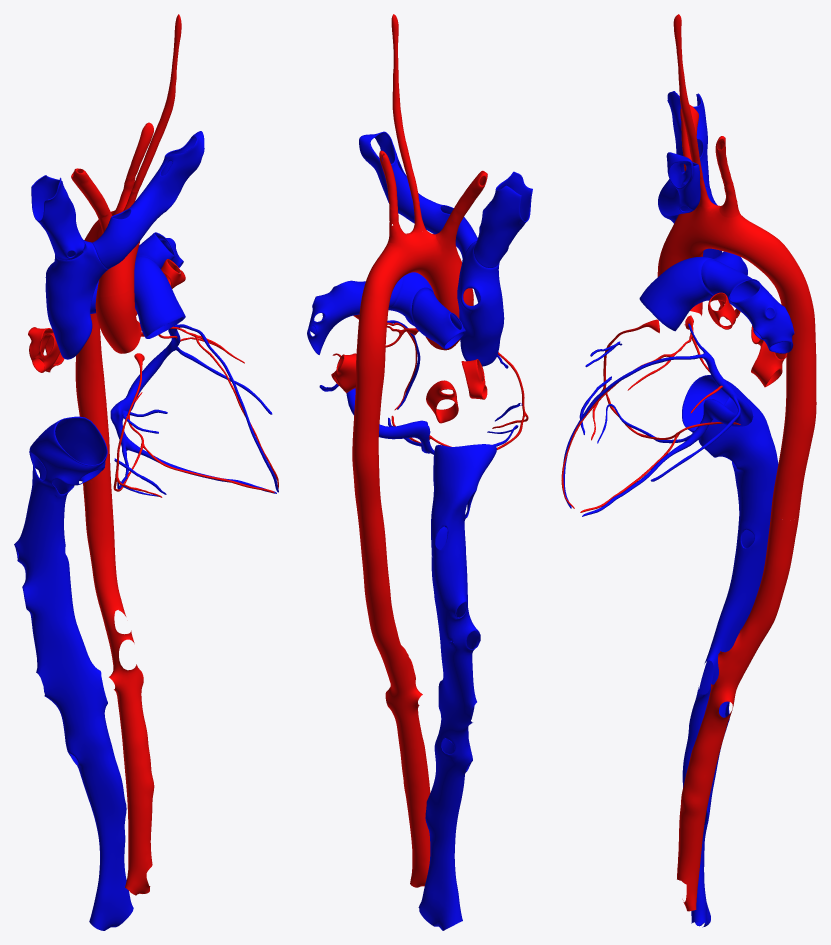
File: heart-vessels.glb
The picture shows the model from 3 angles, left to right: view 1: azimuth 30°, elevation 25°; view 2: azimuth 150°, elevation 25°; view 3: azimuth 270°, elevation 25°; orthographic projection. The views are drawn at different scales.
Parts seen in each view (by area): view 1: VH_M_inferior_vena_cava_b, VH_M_descending_aorta_b, VH_M_inferior_vena_cava_a, VH_M_brachiocephalic_vein_L, VH_M_superior_vena_cava, VH_M_descending_aorta_a, VH_M_brachiocephalic_vein_R, VH_M_pulmonary_trunk, VH_M_ascending_aorta, VH_M_coronary_sinus, VH_M_aortic_arch, VH_M_left_common_carotid_artery_b (+7 smaller); view 2: VH_M_inferior_vena_cava_b, VH_M_descending_aorta_b, VH_M_descending_aorta_a, VH_M_inferior_vena_cava_a, VH_M_aortic_arch, VH_M_superior_vena_cava, VH_M_brachiocephalic_vein_R, VH_M_brachiocephalic_vein_L, VH_M_pulmonary_artery_L, VH_M_pulmonary_artery_R, VH_M_left_common_carotid_artery_b, VH_M_coronary_sinus (+7 smaller); view 3: VH_M_descending_aorta_b, VH_M_descending_aorta_a, VH_M_inferior_vena_cava_b, VH_M_inferior_vena_cava_a, VH_M_aortic_arch, VH_M_pulmonary_artery_L, VH_M_pulmonary_trunk, VH_M_brachiocephalic_vein_L, VH_M_coronary_sinus, VH_M_brachiocephalic_vein_R, VH_M_left_common_carotid_artery_b, VH_M_pulmonary_vein_L_inf (+4 smaller).
Part boxes in pixels (left/top/right/bottom): VH_M_inferior_vena_cava_b: left=14, top=501, right=133, bottom=930; VH_M_descending_aorta_b: left=83, top=480, right=154, bottom=895; VH_M_inferior_vena_cava_a: left=29, top=416, right=107, bottom=516; VH_M_brachiocephalic_vein_L: left=92, top=131, right=204, bottom=269; VH_M_superior_vena_cava: left=45, top=240, right=107, bottom=359; VH_M_descending_aorta_a: left=75, top=232, right=110, bottom=484; VH_M_brachiocephalic_vein_R: left=31, top=175, right=84, bottom=260; VH_M_pulmonary_trunk: left=134, top=256, right=185, bottom=338; VH_M_ascending_aorta: left=95, top=286, right=141, bottom=353; VH_M_coronary_sinus: left=110, top=324, right=180, bottom=450; VH_M_aortic_arch: left=88, top=206, right=139, bottom=297; VH_M_left_common_carotid_artery_b: left=132, top=14, right=181, bottom=192; VH_M_inferior_vena_cava_b: left=418, top=551, right=480, bottom=930; VH_M_descending_aorta_b: left=361, top=546, right=430, bottom=887; VH_M_descending_aorta_a: left=352, top=298, right=388, bottom=552; VH_M_inferior_vena_cava_a: left=431, top=444, right=496, bottom=559; VH_M_aortic_arch: left=361, top=230, right=471, bottom=308; VH_M_superior_vena_cava: left=457, top=241, right=504, bottom=366; VH_M_brachiocephalic_vein_R: left=474, top=171, right=532, bottom=267; VH_M_brachiocephalic_vein_L: left=359, top=131, right=477, bottom=258; VH_M_pulmonary_artery_L: left=307, top=277, right=402, bottom=354; VH_M_pulmonary_artery_R: left=411, top=287, right=465, bottom=349; VH_M_left_common_carotid_artery_b: left=391, top=14, right=419, bottom=202; VH_M_coronary_sinus: left=346, top=388, right=434, bottom=454; VH_M_descending_aorta_b: left=677, top=514, right=798, bottom=911; VH_M_descending_aorta_a: left=768, top=252, right=816, bottom=520; VH_M_inferior_vena_cava_b: left=682, top=488, right=773, bottom=927; VH_M_inferior_vena_cava_a: left=682, top=375, right=778, bottom=492; VH_M_aortic_arch: left=662, top=203, right=789, bottom=277; VH_M_pulmonary_artery_L: left=701, top=259, right=794, bottom=353; VH_M_pulmonary_trunk: left=639, top=256, right=719, bottom=331; VH_M_brachiocephalic_vein_L: left=658, top=152, right=700, bottom=221; VH_M_coronary_sinus: left=688, top=348, right=753, bottom=441; VH_M_brachiocephalic_vein_R: left=667, top=91, right=710, bottom=188; VH_M_left_common_carotid_artery_b: left=673, top=14, right=703, bottom=180; VH_M_pulmonary_vein_L_inf: left=751, top=341, right=787, bottom=387.
Bounding box in the file's own units: 0.1302 × 0.5142 × 0.1258.
